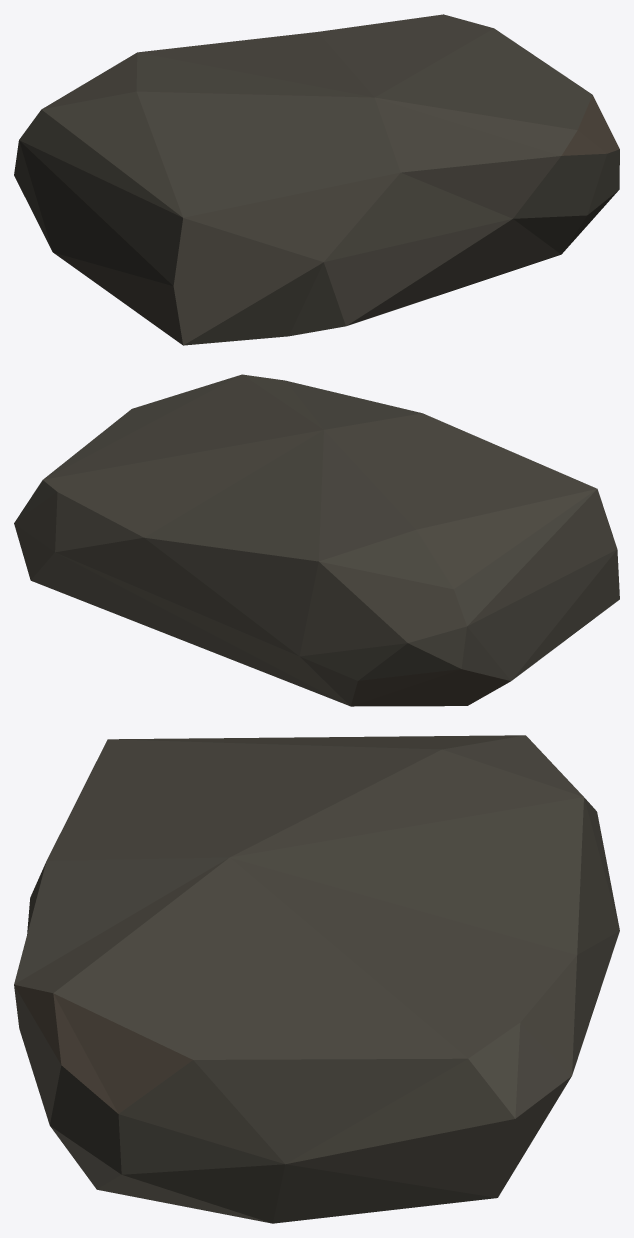
File: synty-prop-brick-02.gltf
3 views of the same model, one above another, from view 1: azimuth 30°, elevation 25°; view 2: azimuth 150°, elevation 25°; view 3: azimuth 270°, elevation 25° (orthographic). The views are drawn at different scales.
Parts seen in each view (by area): view 1: SM_Prop_Brick_02; view 2: SM_Prop_Brick_02; view 3: SM_Prop_Brick_02.
Part boxes in pixels (x1,y1,x2,y2): SM_Prop_Brick_02: (14, 14, 619, 345); SM_Prop_Brick_02: (14, 374, 619, 706); SM_Prop_Brick_02: (14, 735, 619, 1223).
Size of the model in its own units: 0.5225 by 0.1705 by 0.3946.
1 material, 1 textured.
